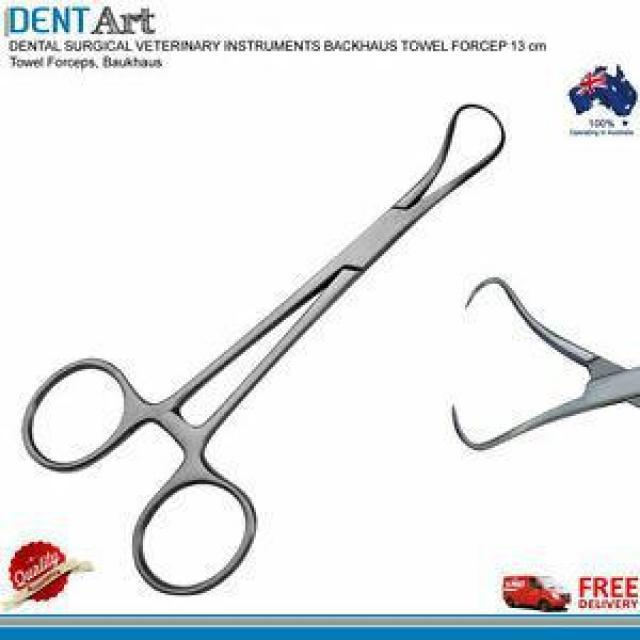Towel_clip: (19, 100, 510, 598), (448, 273, 640, 457)
